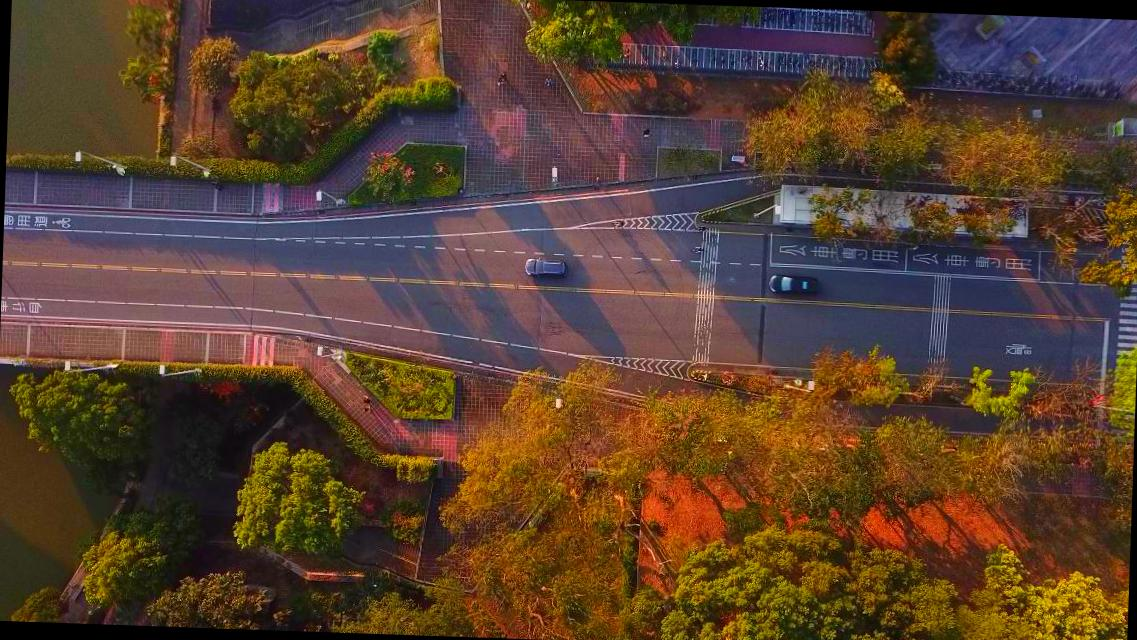vehicle: (768, 273, 818, 296), (522, 255, 568, 278)
